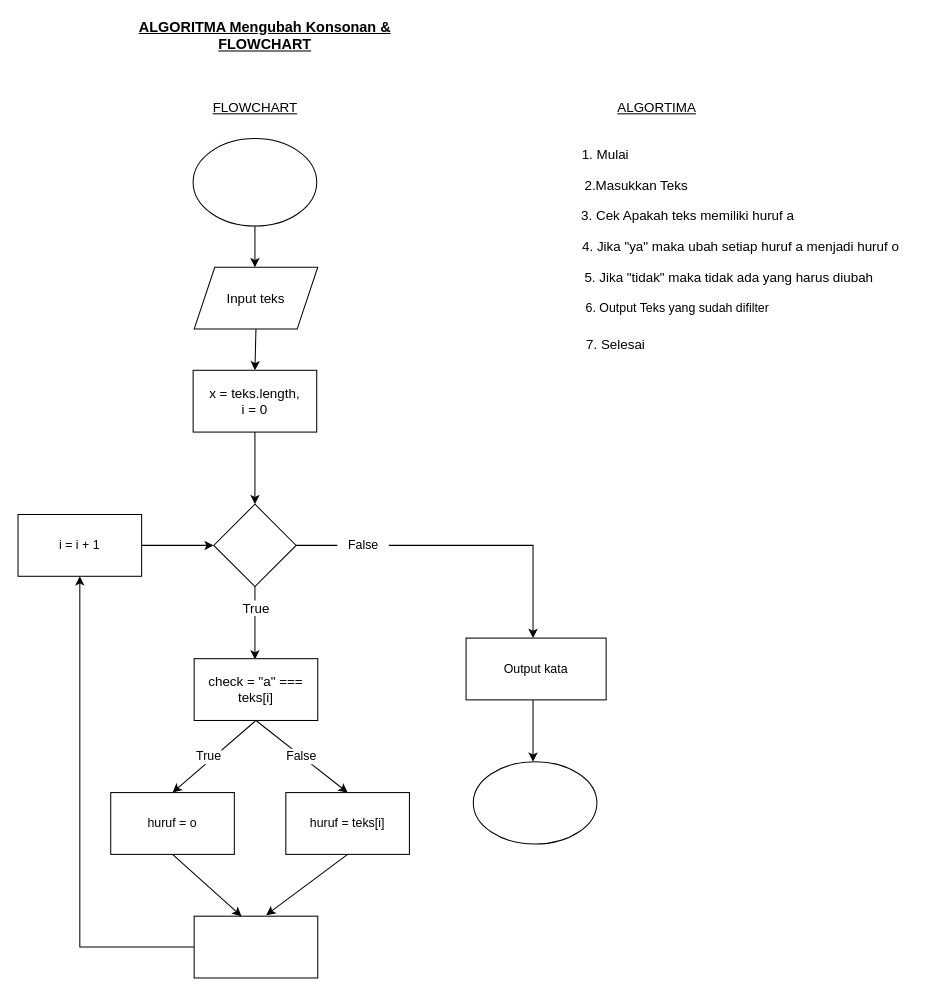
The diagram is 937 pixels wide and 996 high, and some of its shapes have lost their labels. Here are the shapes that lost their labels. From the top down, the centre of each, then its label:
[254,182]: Mulai
[254,545]: i < x
[534,802]: Selesai
[255,946]: kata = kata + huruf
